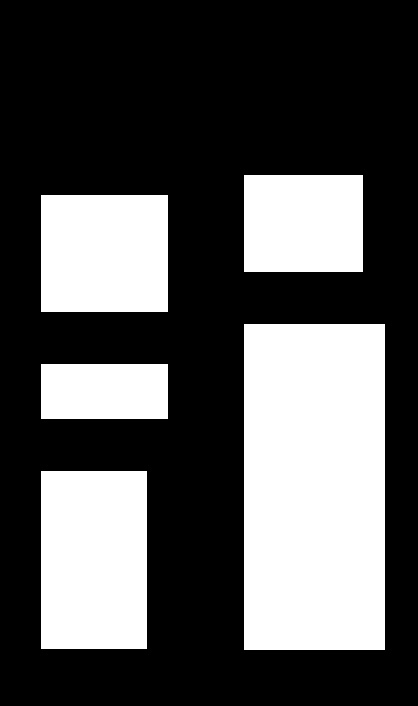table: (244, 324, 384, 649), (41, 471, 146, 648), (41, 195, 167, 311), (244, 175, 362, 271), (41, 364, 167, 418)
